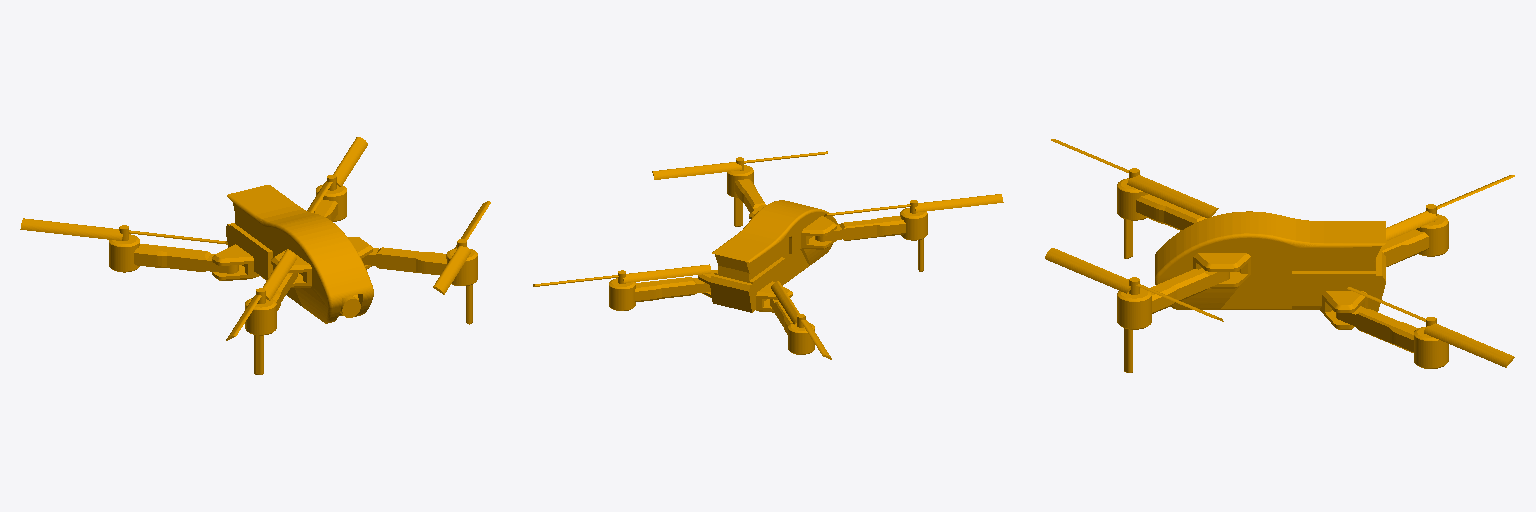
URDF robot description (drone):
<?xml version="1.0"?>
<robot name="drone">

  <link name="base">

    <inertial>
      <origin xyz="0 0 0" rpy="0 0 0"/>
      <mass value="1.5"/>
      <inertia ixx="0.02" iyy="0.02" izz="0.04" ixy="0" ixz="0" iyz="0"/>
    </inertial>

    <visual>
      <origin xyz="0 0 0" rpy="0 0 0"/>
      <geometry>
        <mesh filename="drone.stl" scale="0.001 0.001 0.001"/>  <!-- often needed -->
      </geometry>
    </visual>

    <collision>
      <origin xyz="0 0 0" rpy="0 0 0"/>
      <geometry>
        <mesh filename="drone.stl" scale="0.001 0.001 0.001"/>
      </geometry>
    </collision>

  </link>

</robot>

--- Facts derived from the render (not from the file) ---
3 views of the same robot in one strip: view 1: azimuth 30°, elevation 25°; view 2: azimuth 150°, elevation 25°; view 3: azimuth 270°, elevation 25° (orthographic).
Model drone with 1 links and 0 joints (none), rooted at base, posed every joint at zero.
Links seen in each view (by area): view 1: base; view 2: base; view 3: base.
Link boxes in pixels (x1,y1,x2,y2): base: (20, 137, 490, 374); base: (533, 151, 1003, 359); base: (1045, 139, 1514, 372).
Size in the robot's own frame: 0.3058 by 0.3229 by 0.0699 metres.
Meshes: 1 distinct files referenced, 1 mesh visuals loaded (1 binary STL).